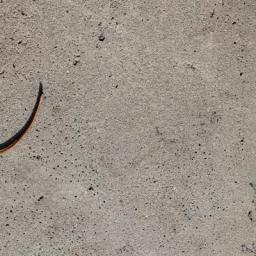FOD: (1, 87, 49, 164)
